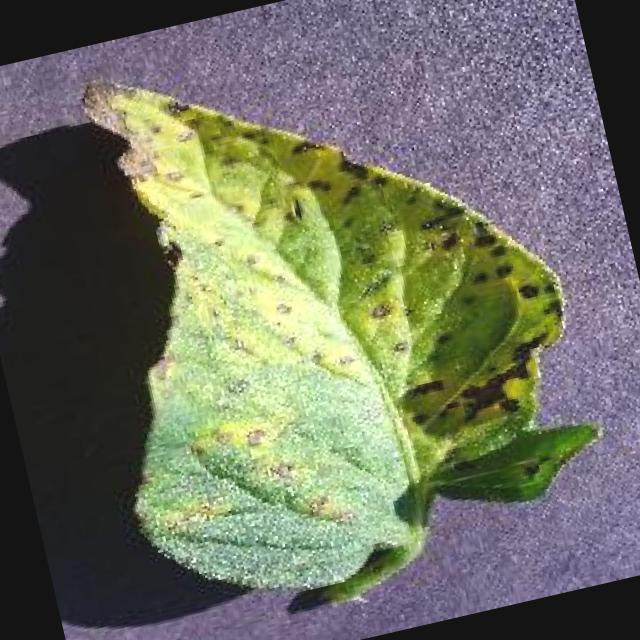leaf_spot: (87, 88, 596, 603)
